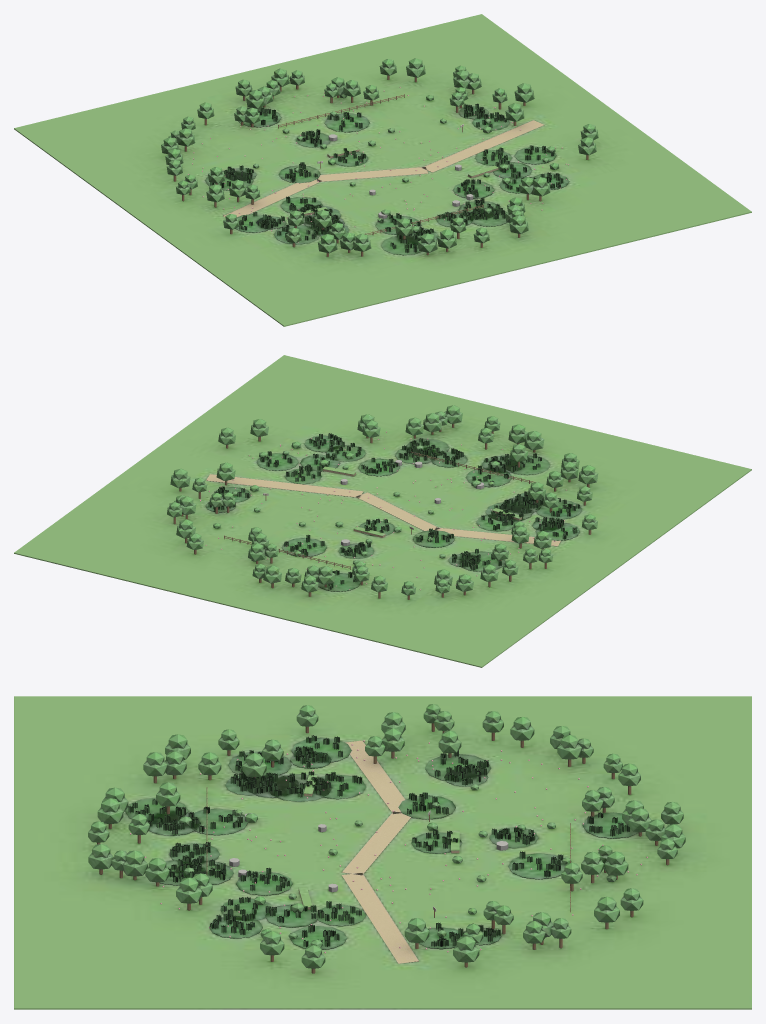
File: route.glb
3 views of the same model, one above another, from view 1: azimuth 30°, elevation 25°; view 2: azimuth 150°, elevation 25°; view 3: azimuth 270°, elevation 25° (orthographic). The views are drawn at different scales.
Visible parts, largest first — view 1: 統合 草, 統合 葉, 統合 丈の高い草, 統合 土の道, 統合 木; view 2: 統合 草, 統合 葉, 統合 丈の高い草, 統合 土の道, 統合 木; view 3: 統合 草, 統合 丈の高い草, 統合 葉, 統合 土の道, 統合 木.
Part boxes in pixels (x1,y1,x2,y2): 統合 草: (14,14,751,326); 統合 葉: (161,58,598,253); 統合 丈の高い草: (205,103,569,255); 統合 土の道: (223,120,544,217); 統合 木: (173,75,588,256); 統合 草: (14,355,751,667); 統合 葉: (167,405,598,595); 統合 丈の高い草: (205,433,581,591); 統合 土の道: (206,469,560,546); 統合 木: (173,424,591,599); 統合 草: (14,696,751,1009); 統合 丈の高い草: (125,735,638,949); 統合 葉: (88,704,685,968); 統合 土の道: (298,740,459,963); 統合 木: (97,723,669,973).
Bounding box in the file's own units: 143 × 7.23 × 143.
8 materials, 7 textured.
